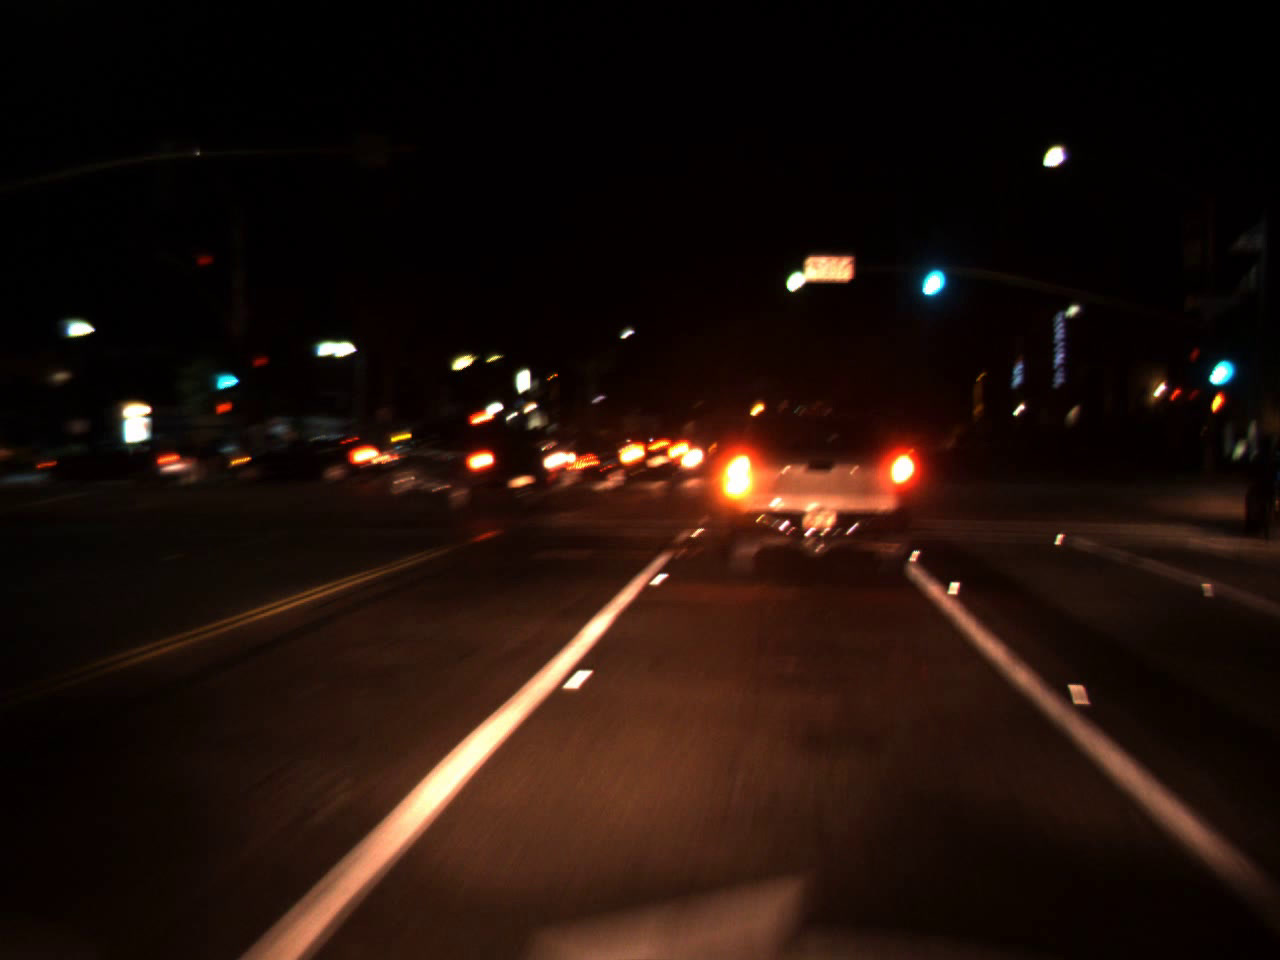go: (912, 235, 949, 307), (777, 238, 813, 301), (1200, 334, 1236, 394), (208, 358, 244, 394)
